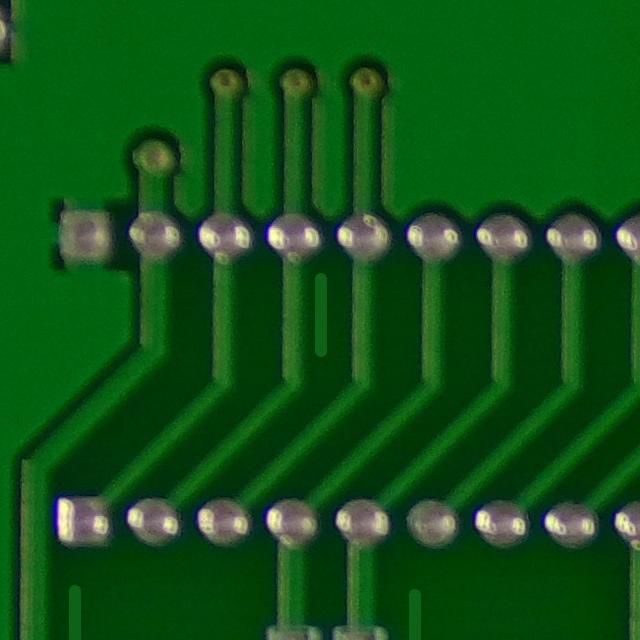spurious_copper: (298, 265, 342, 375)
